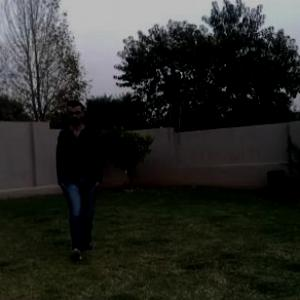follow: (55, 99, 106, 255)
